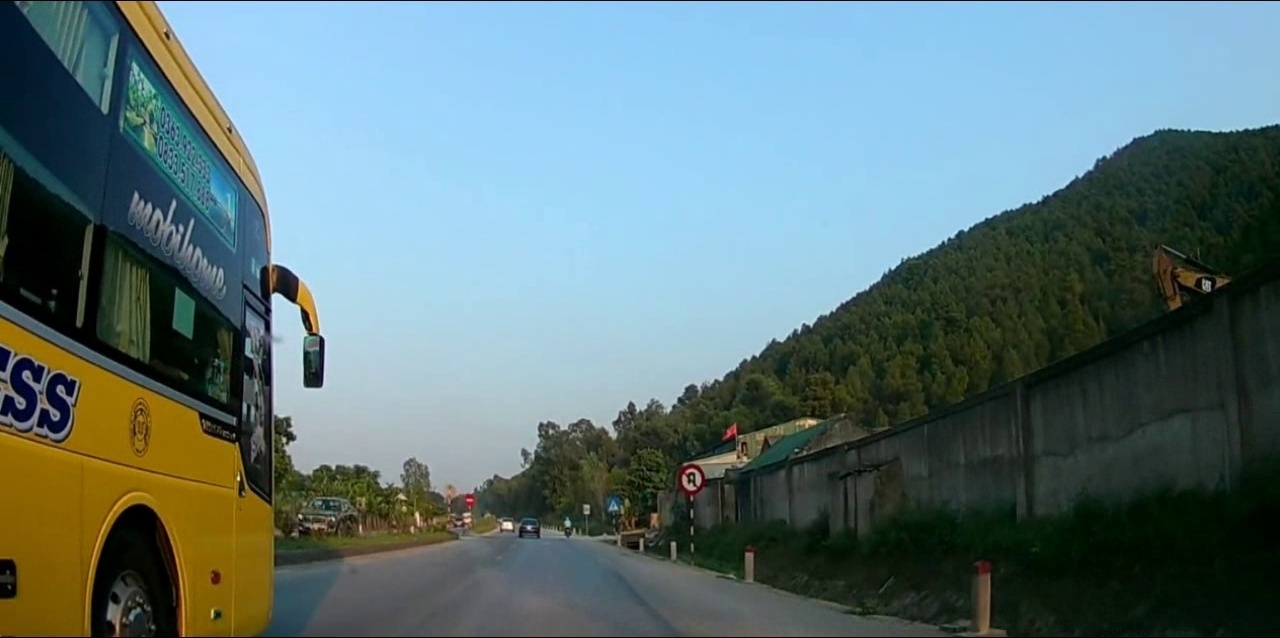Bien khac: (678, 464, 705, 494)
Cam di nguoc chieu: (464, 492, 473, 507)
Nguoi di bo: (605, 497, 618, 513)
